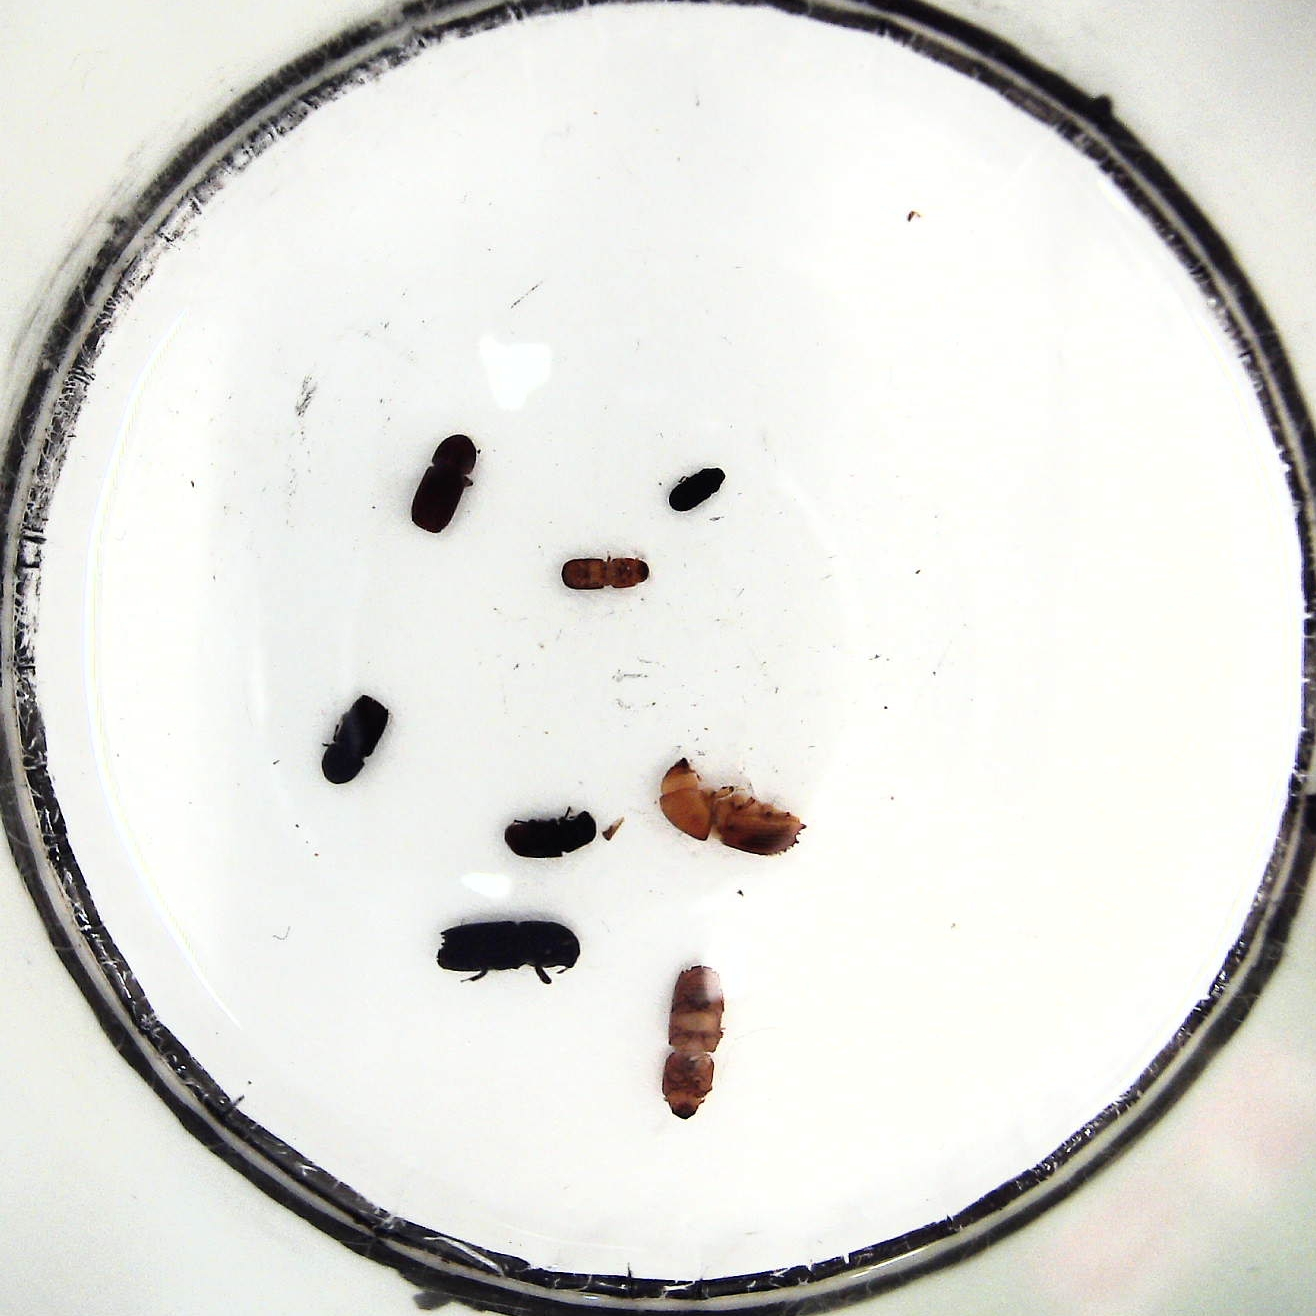Boerner: (659, 756, 809, 860), (659, 960, 723, 1126), (431, 917, 584, 977)
Linnaeus: (407, 427, 476, 531), (317, 692, 389, 791)
acuminatus: (553, 553, 654, 595)
armandi: (500, 805, 599, 866)
coleoptera: (663, 464, 730, 515)
